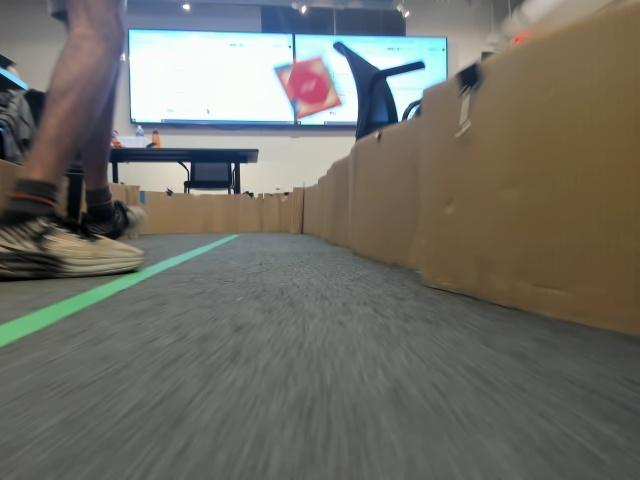Stop: (285, 74, 323, 110)
